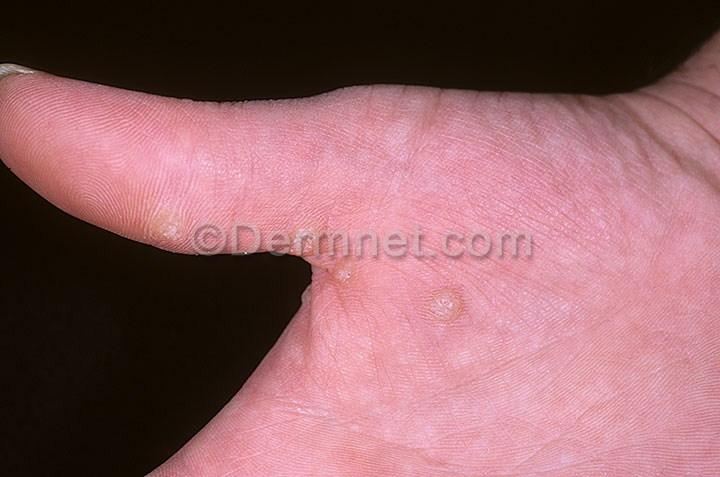Eczema: (556, 233, 720, 443), (425, 94, 618, 237), (258, 102, 426, 223), (379, 369, 558, 477), (147, 98, 256, 227), (13, 80, 136, 182), (288, 278, 379, 415), (407, 270, 509, 360), (180, 397, 266, 477), (285, 411, 373, 476)
